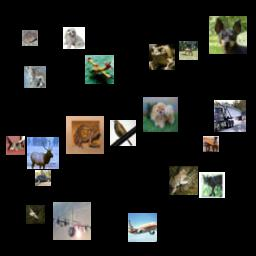airplane: (53, 202, 91, 240), (85, 55, 114, 84), (128, 213, 157, 242)
automobile: (35, 170, 51, 186)
bird: (110, 120, 136, 146), (26, 205, 45, 224)
cat: (199, 172, 225, 198), (24, 66, 46, 88), (6, 136, 25, 155)
deer: (27, 137, 59, 169)
dog: (209, 16, 247, 54), (143, 97, 178, 132), (63, 27, 85, 49)
frog: (66, 116, 104, 154), (169, 166, 198, 195), (149, 44, 175, 70), (22, 30, 38, 46)
truck: (214, 100, 246, 132), (203, 136, 219, 152)
